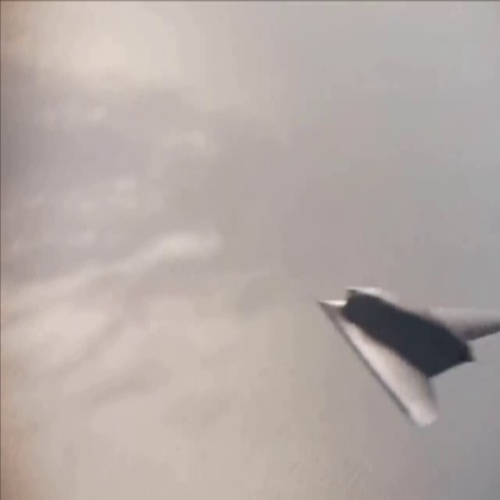uav: (315, 285, 500, 427)
